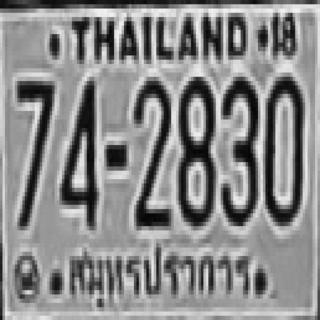N00: (263, 73, 303, 222)
N02: (131, 75, 169, 228)
N03: (220, 73, 257, 222)
N04: (60, 77, 97, 226)
N07: (15, 77, 52, 226)
N08: (176, 73, 213, 222)
P57: (67, 239, 262, 304)
